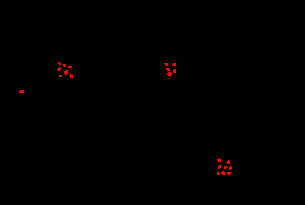Target: (167, 72, 172, 77), (64, 70, 68, 75), (57, 67, 61, 71), (217, 158, 221, 162), (226, 160, 230, 164), (221, 171, 225, 175), (19, 90, 24, 93), (164, 63, 168, 66), (172, 63, 176, 66), (166, 68, 170, 71), (173, 69, 176, 73), (70, 74, 73, 78), (218, 165, 221, 169), (229, 166, 232, 170), (227, 172, 231, 175), (58, 62, 61, 65), (63, 64, 66, 67), (224, 166, 227, 169), (217, 172, 220, 175), (68, 66, 72, 68), (59, 75, 62, 77)
